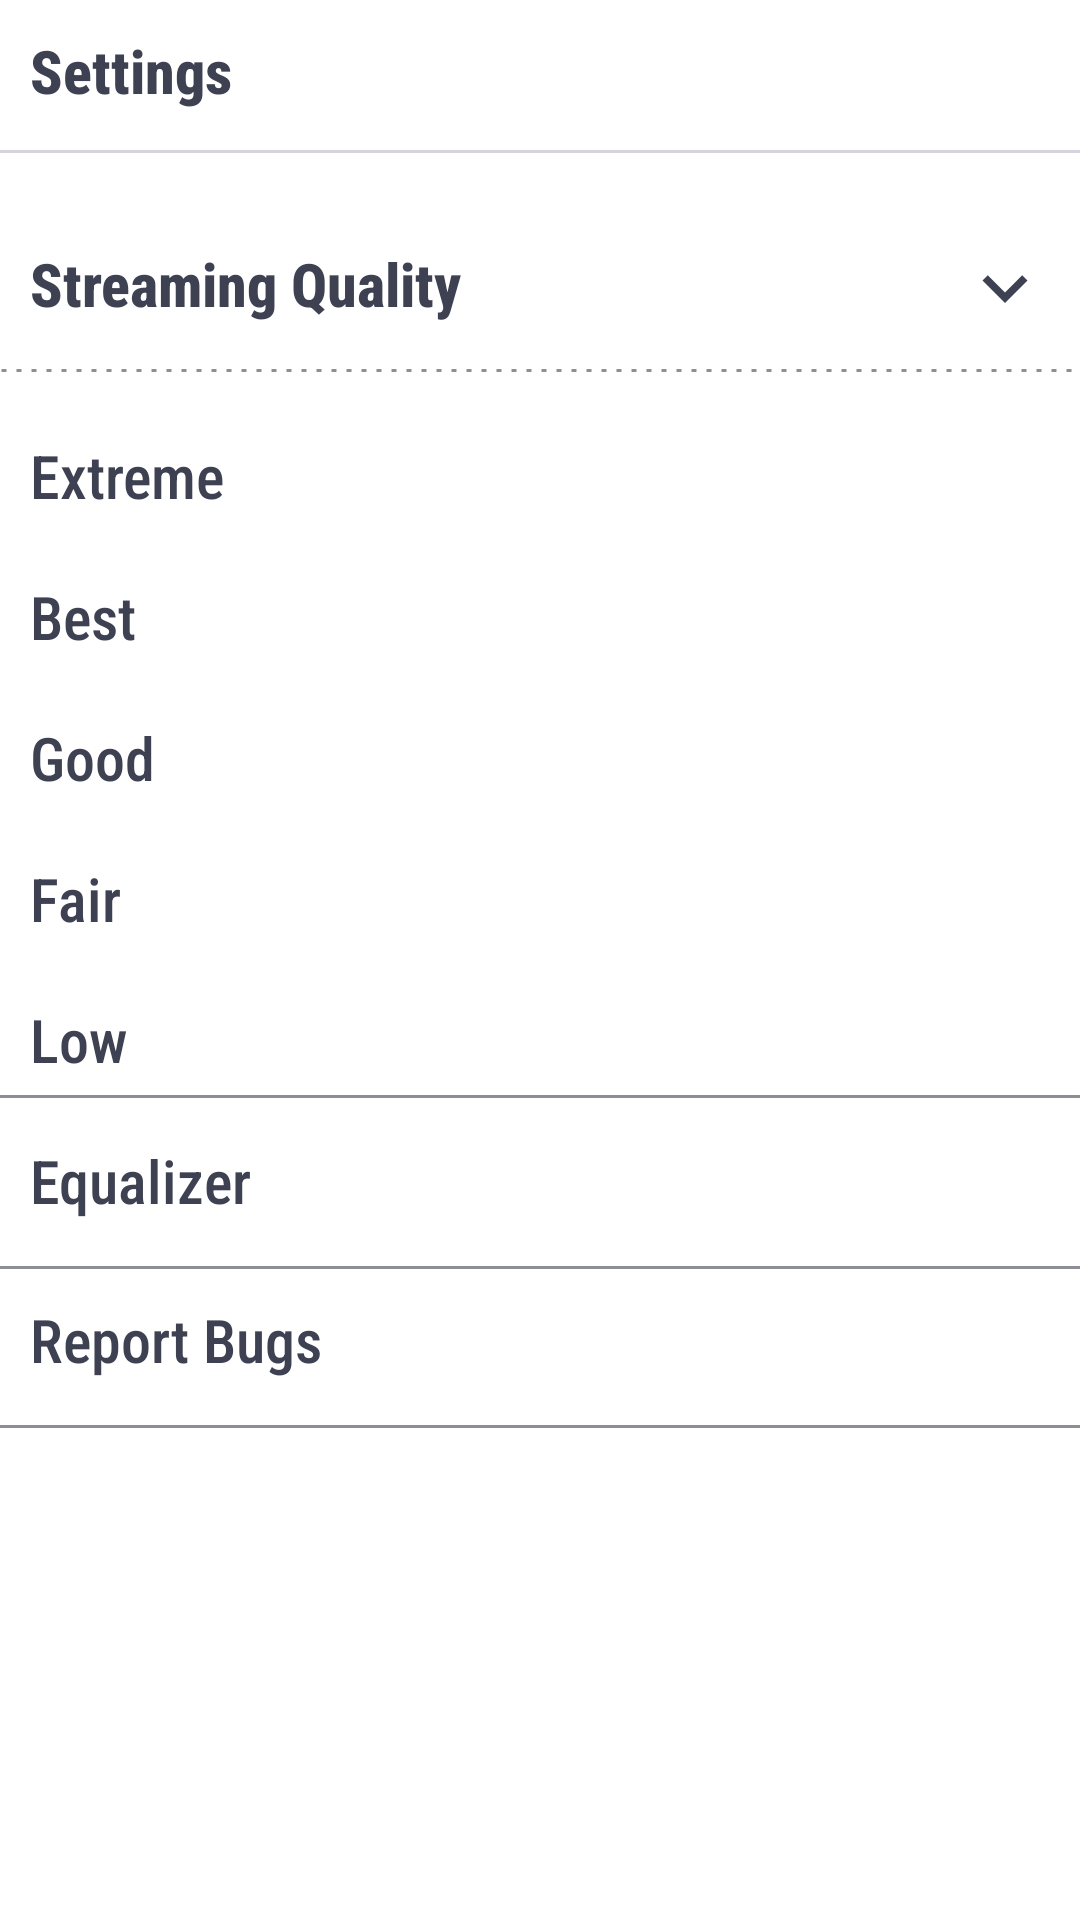

Icon bounding boxes for this 1080 × 1920 phone screenshot, format (x1, y1, x2, y2):
arrow drop down: (982, 275, 1028, 303)
